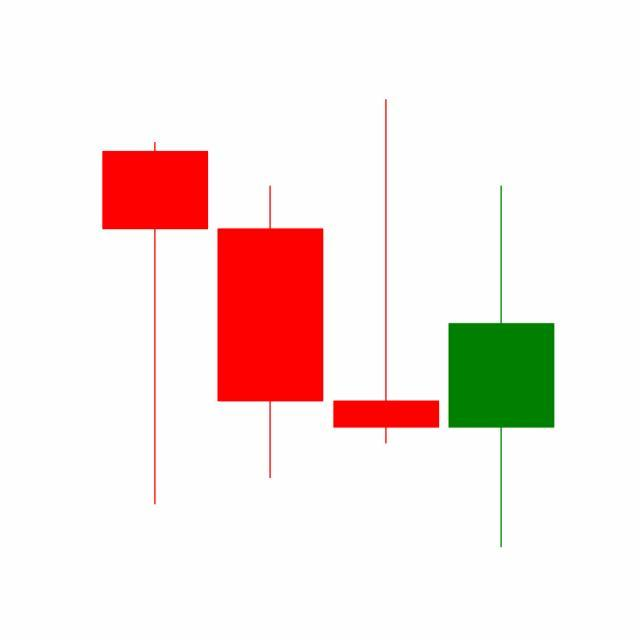Spinning Top: (444, 182, 560, 552)
